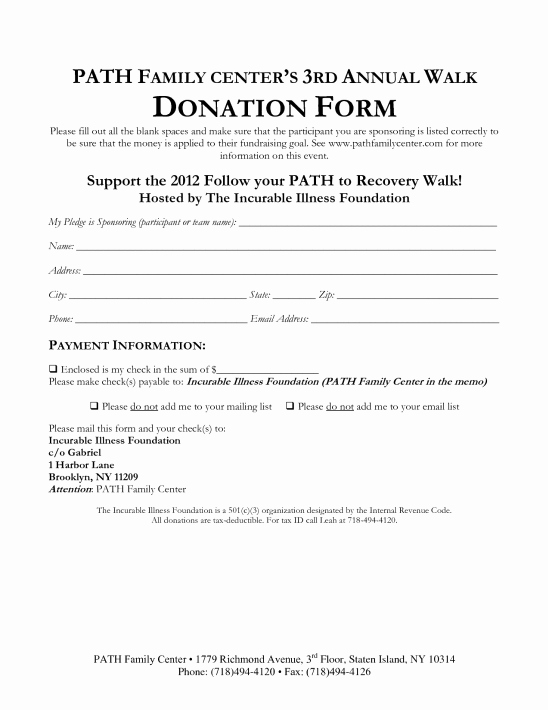checkbox: (87, 398, 100, 413), (282, 399, 296, 412), (46, 363, 59, 376)
textline: (74, 234, 502, 254), (79, 259, 501, 279), (236, 207, 500, 230), (308, 306, 503, 326), (334, 281, 502, 303), (67, 283, 248, 303), (73, 307, 251, 326), (213, 360, 319, 377), (270, 285, 315, 302)
